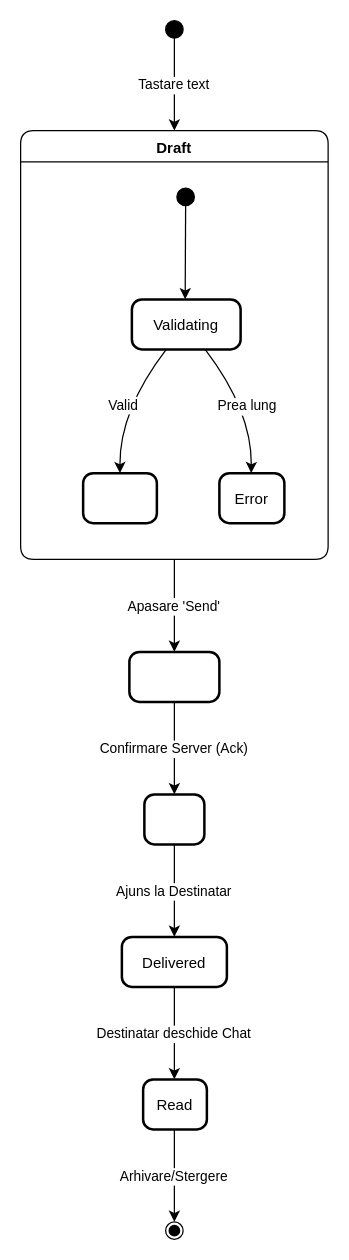
Image size: 349x1260. Some labels were removed from this diagram. The box of each missing label's shape, as (x1, y1, x2, y2) in pixels:
Pending: (128, 650, 220, 702)
Ready: (81, 471, 158, 524)
Sent: (142, 792, 205, 845)
